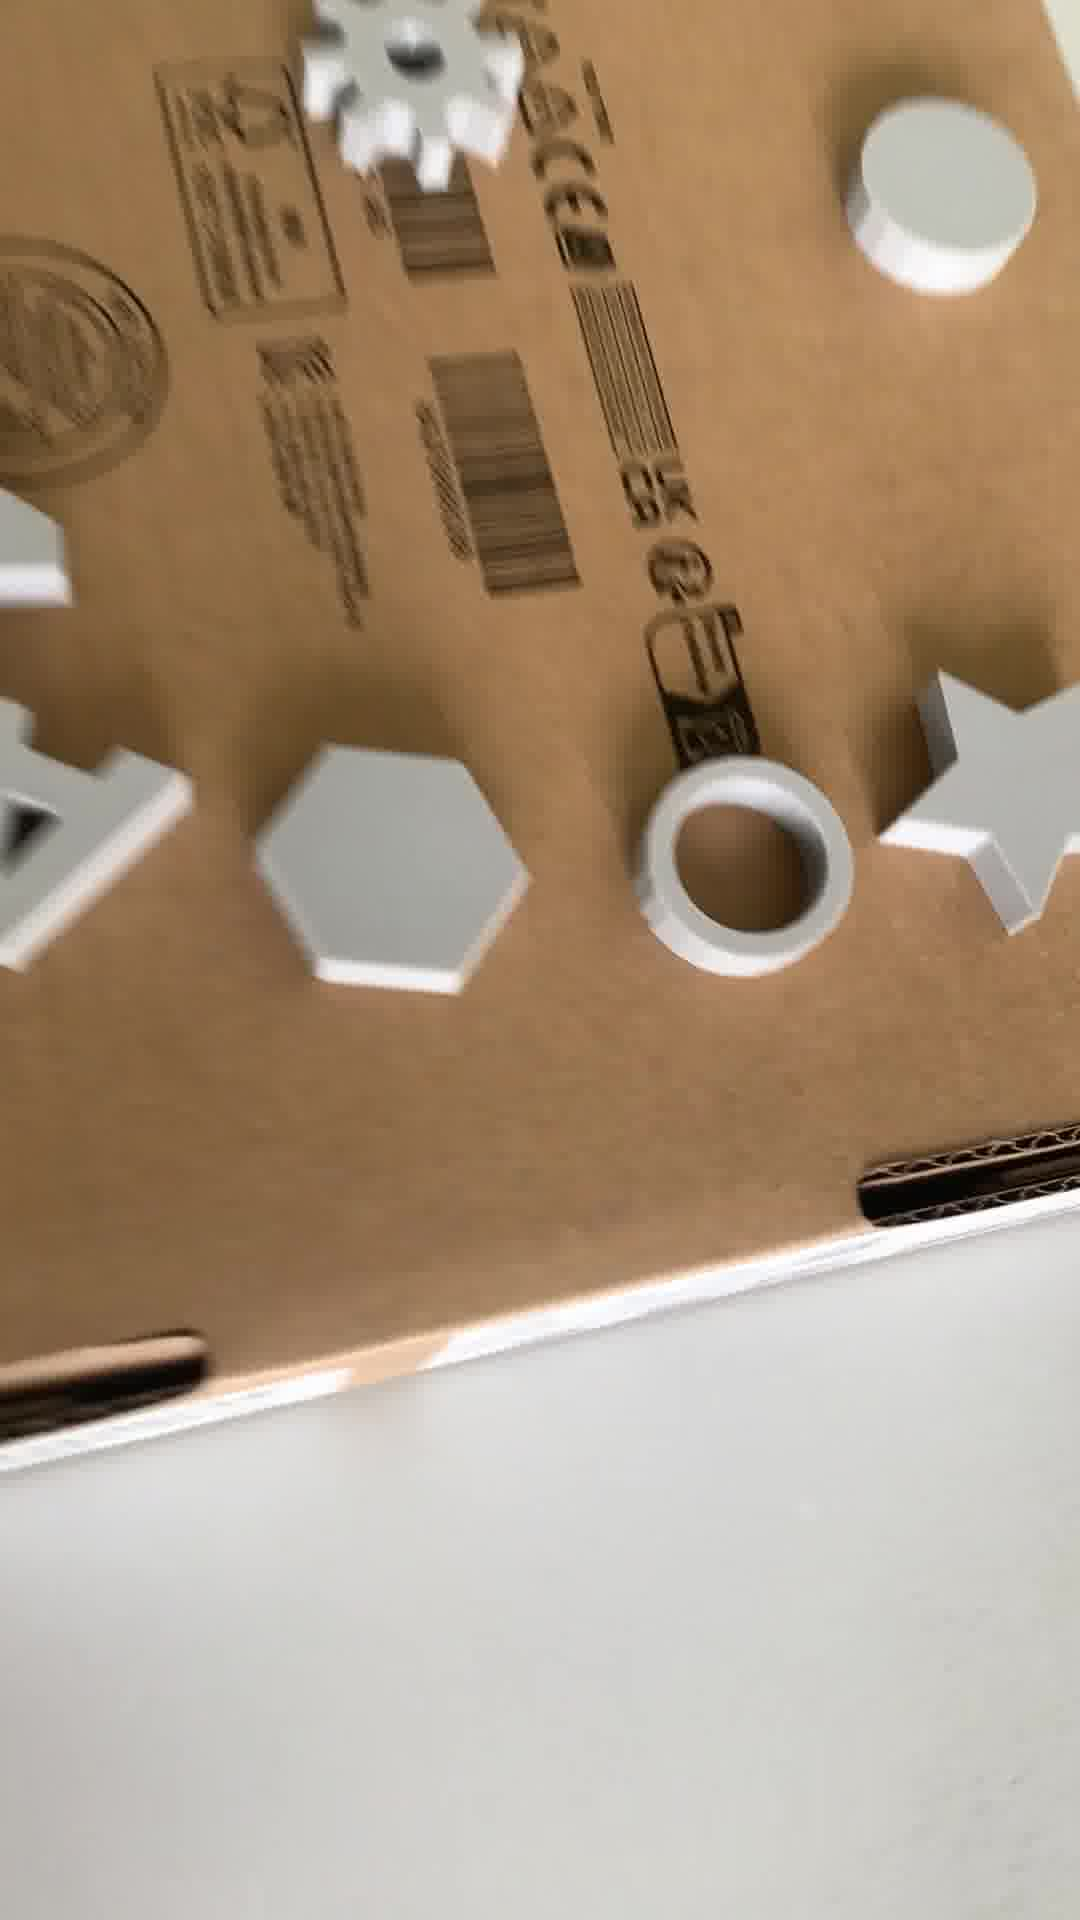Gray A-letter: (1, 694, 202, 961)
Gray circle: (823, 94, 1044, 305)
Gray gear: (274, 1, 529, 195)
Gray hexagon: (245, 735, 537, 1004)
Gray ring: (621, 752, 868, 986)
Gray star: (878, 662, 1077, 938)
